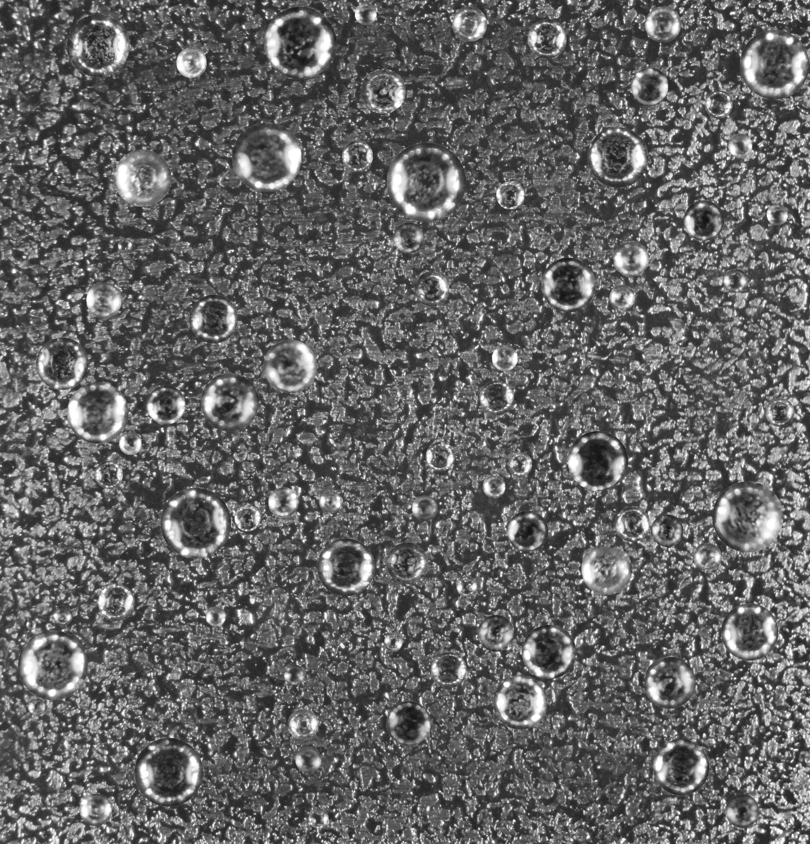Bubble: (386, 142, 466, 221), (264, 6, 336, 78), (712, 481, 783, 552), (160, 487, 230, 558), (18, 630, 87, 700), (740, 29, 809, 99), (232, 122, 301, 191), (134, 738, 202, 806), (66, 14, 129, 76), (67, 382, 128, 443), (587, 127, 648, 187), (568, 431, 628, 491), (200, 373, 258, 431), (317, 538, 374, 596), (721, 603, 778, 660), (114, 149, 171, 206), (653, 739, 709, 795), (541, 257, 595, 312), (522, 625, 576, 679), (493, 675, 547, 729), (263, 339, 316, 393), (643, 656, 695, 708), (36, 337, 88, 389), (581, 544, 631, 594), (189, 294, 237, 343), (360, 68, 405, 113), (386, 701, 430, 745), (386, 542, 428, 584), (507, 510, 548, 551), (683, 200, 724, 240), (146, 385, 185, 424), (527, 19, 566, 58), (631, 67, 668, 104), (98, 584, 134, 621), (477, 615, 514, 651), (645, 6, 681, 42), (430, 652, 466, 688), (614, 506, 649, 541), (452, 6, 487, 41), (479, 380, 514, 415), (613, 241, 648, 276), (86, 282, 121, 317), (414, 271, 449, 306), (725, 794, 759, 827), (79, 793, 111, 826), (651, 514, 683, 546), (393, 222, 424, 253), (287, 709, 318, 739), (342, 140, 372, 171), (425, 441, 455, 471), (176, 47, 206, 77), (268, 487, 298, 517), (765, 398, 794, 426), (94, 460, 122, 488), (496, 181, 524, 209), (704, 90, 732, 118), (693, 542, 721, 570), (295, 746, 321, 772), (234, 505, 260, 531), (609, 284, 634, 310), (492, 345, 517, 370), (412, 495, 437, 520), (728, 133, 752, 157), (508, 452, 532, 476), (723, 268, 747, 292), (482, 475, 505, 498), (319, 491, 341, 513), (119, 432, 141, 454), (354, 2, 376, 24), (766, 204, 787, 225), (284, 664, 304, 685), (456, 576, 477, 596), (308, 808, 328, 828), (205, 606, 225, 626), (52, 606, 72, 625), (384, 633, 402, 651), (28, 698, 45, 715), (397, 384, 412, 400), (117, 238, 132, 252), (26, 619, 36, 629)
